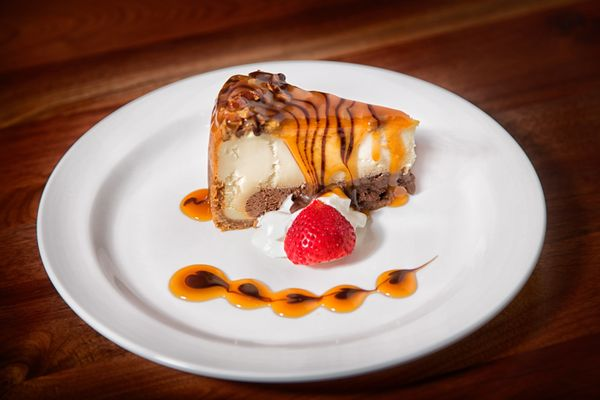curry: (19, 1, 600, 383)
sushi: (207, 69, 420, 228)
